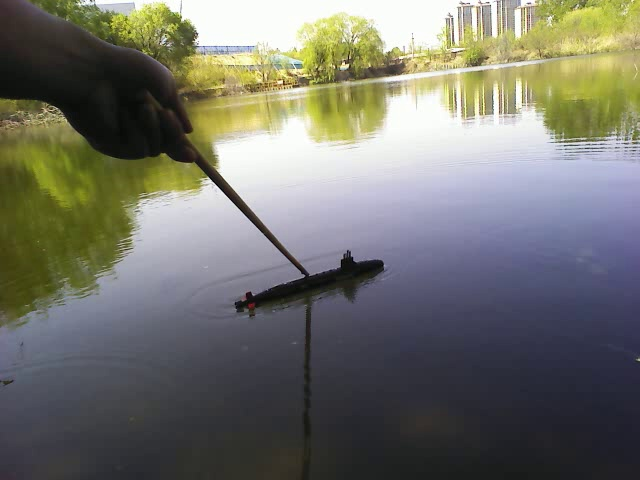submarine: (233, 248, 392, 314)
